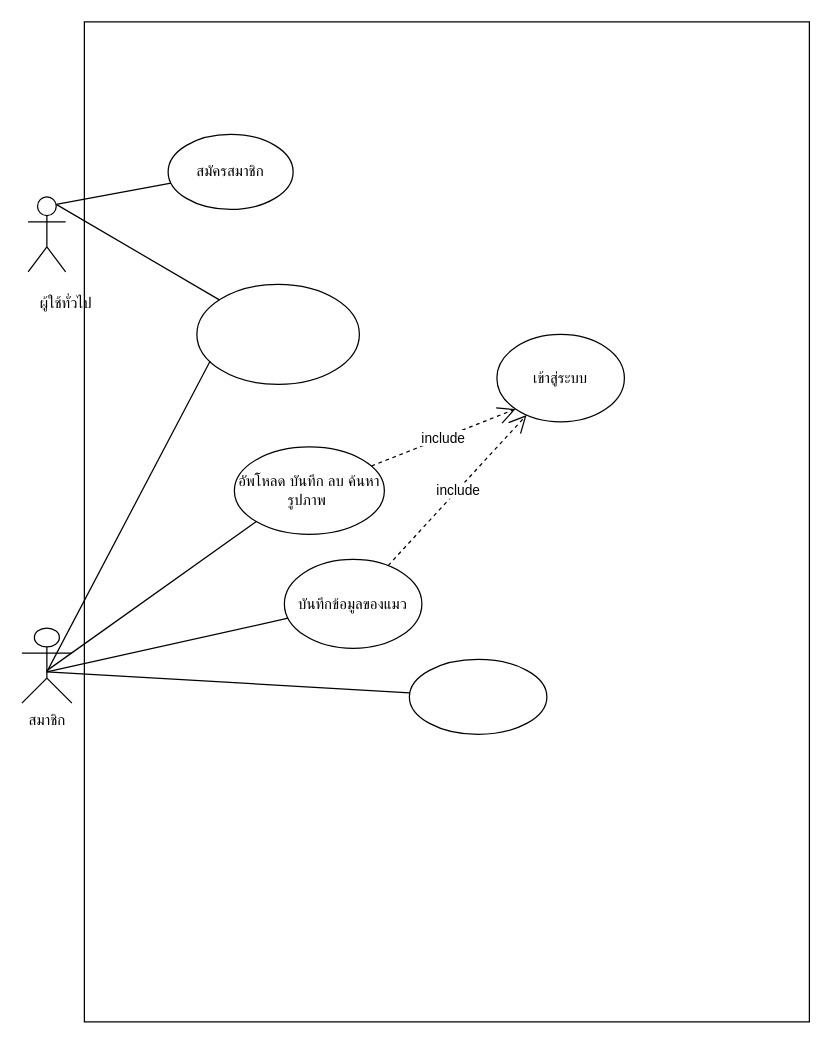
The diagram is 831 pixels wide and 1044 high, and some of its shapes have lost their labels. Here are the shapes that lost their labels. From the top down, the box of each, then its label:
(196, 283, 359, 384): แนะนำสอบถามการดูแลแมว
(408, 658, 547, 734): สรุปรายการที่บันทึก
